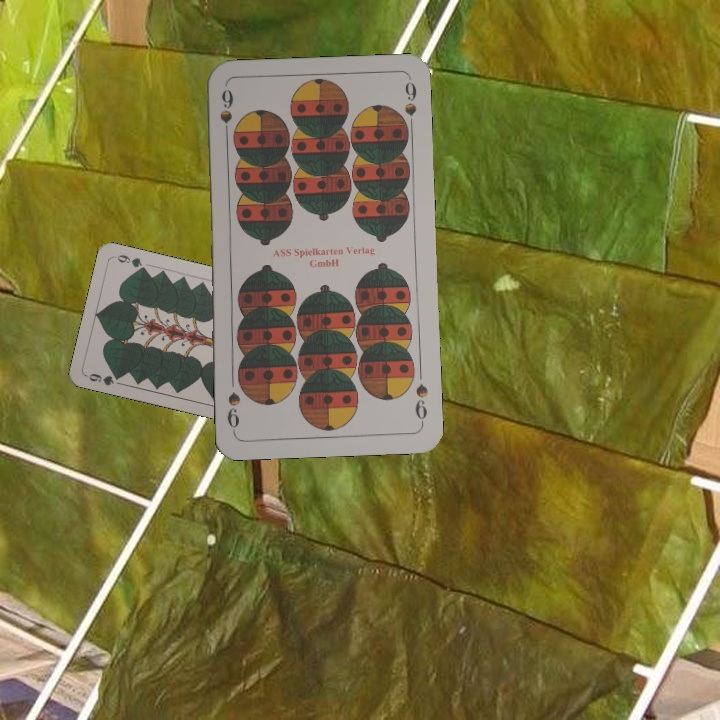G9: (83, 369, 125, 388)
S9: (216, 85, 236, 144), (411, 380, 431, 427)
